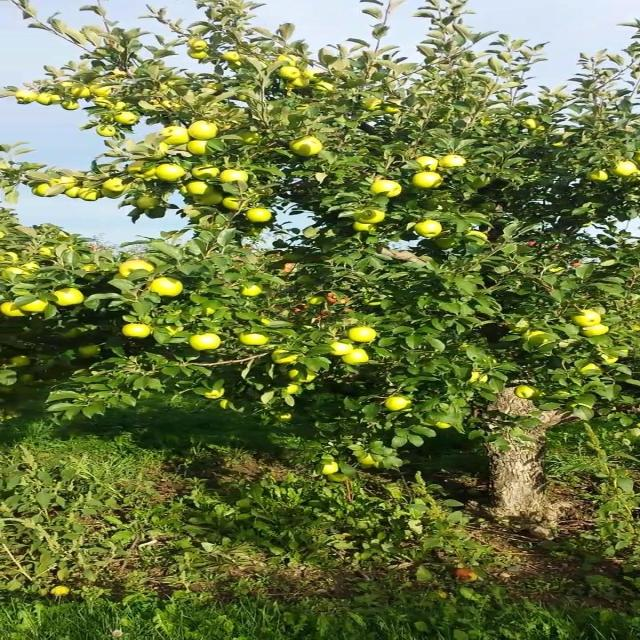apple: (291, 136, 324, 156), (120, 260, 156, 277), (148, 280, 185, 296), (56, 288, 85, 307), (412, 172, 443, 189), (376, 180, 405, 198), (156, 164, 185, 182), (163, 128, 192, 145), (191, 124, 220, 140), (191, 336, 220, 352), (191, 164, 220, 180), (127, 164, 156, 180), (348, 328, 377, 344), (355, 208, 384, 224), (241, 332, 270, 347), (575, 312, 603, 327), (340, 352, 370, 365), (582, 324, 612, 337), (291, 368, 315, 384), (276, 348, 299, 364), (148, 144, 171, 160), (419, 224, 443, 239), (20, 300, 50, 312), (220, 172, 249, 184), (440, 156, 469, 168), (184, 184, 213, 196), (611, 164, 639, 176), (419, 156, 441, 171), (127, 324, 149, 339), (198, 192, 222, 205), (525, 332, 549, 345), (191, 140, 210, 156), (35, 184, 59, 196), (333, 344, 356, 356), (468, 372, 491, 384), (20, 264, 43, 276), (468, 176, 491, 188), (390, 400, 412, 412), (248, 212, 270, 224), (241, 284, 263, 296), (70, 88, 92, 100), (106, 180, 128, 192), (362, 100, 384, 112), (326, 292, 348, 304), (120, 112, 140, 125), (77, 348, 100, 359), (589, 172, 612, 183), (148, 100, 176, 109), (326, 472, 348, 483), (42, 96, 64, 107), (433, 240, 457, 250), (241, 132, 261, 144), (383, 104, 404, 115), (148, 208, 169, 219), (6, 304, 25, 316), (63, 328, 82, 340), (227, 196, 242, 211), (134, 200, 158, 209), (525, 120, 546, 130), (305, 68, 320, 82), (518, 388, 535, 400), (13, 356, 30, 368), (56, 180, 78, 189), (582, 364, 604, 373), (511, 324, 533, 333), (20, 92, 36, 104), (284, 68, 299, 80), (63, 100, 78, 112), (291, 80, 311, 89), (234, 92, 254, 101), (305, 228, 320, 240), (355, 224, 377, 232), (362, 300, 384, 308), (205, 392, 226, 400), (468, 232, 489, 240), (284, 56, 299, 67), (92, 88, 112, 96), (84, 264, 100, 274), (532, 388, 546, 399), (191, 52, 208, 61), (205, 84, 224, 92), (191, 40, 206, 50), (319, 84, 334, 94), (84, 192, 100, 201), (42, 96, 55, 107), (106, 192, 126, 199), (99, 128, 116, 136), (326, 464, 341, 473), (362, 456, 377, 465), (227, 52, 242, 61), (312, 296, 327, 305), (276, 416, 292, 424), (20, 376, 36, 384), (604, 356, 619, 364), (6, 196, 21, 204), (113, 104, 130, 111), (70, 188, 80, 199), (42, 248, 55, 256), (99, 100, 112, 108), (291, 384, 300, 395), (170, 328, 183, 335), (205, 308, 215, 316), (262, 316, 270, 326), (220, 400, 229, 408), (163, 84, 172, 91), (440, 424, 450, 428)
